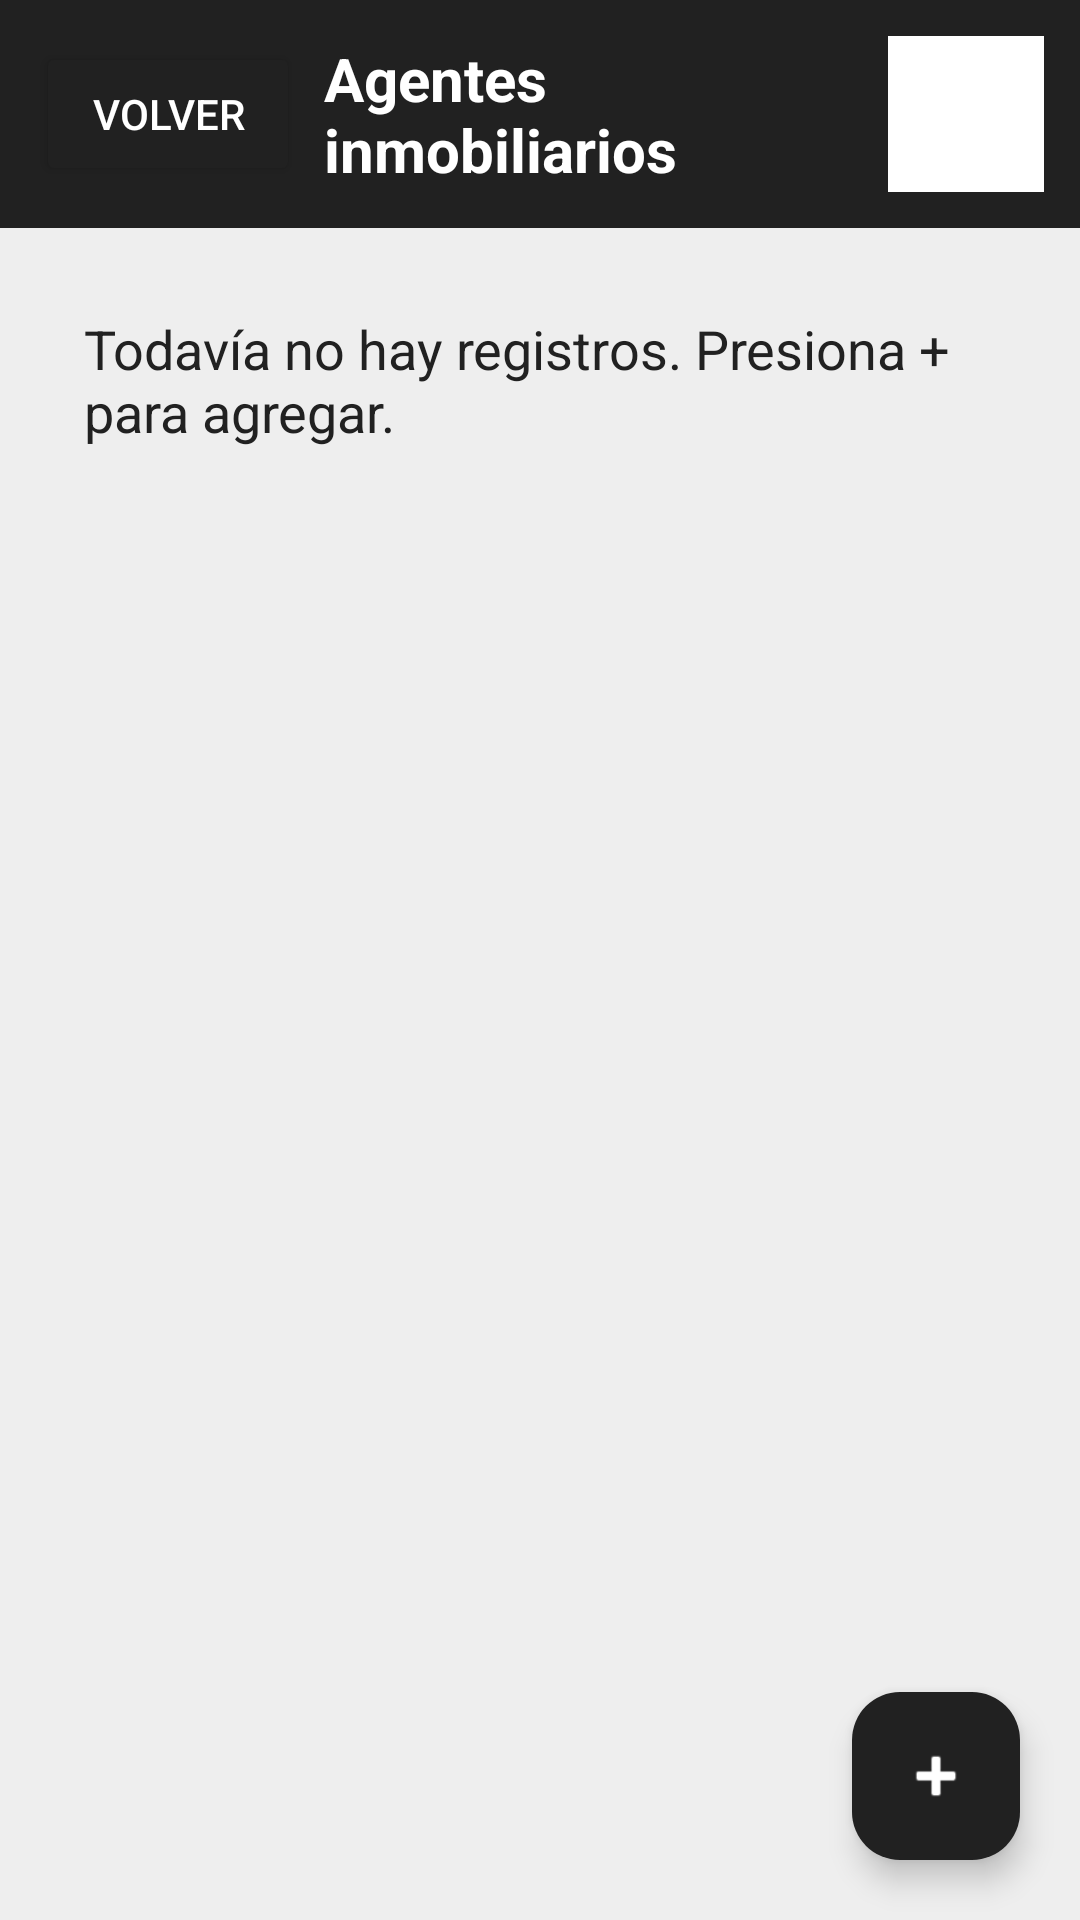

Icon click points for this 1080px×1920px phone screenshot, format (x=x, y=y):
Agregar registro: (x=936, y=1776)
